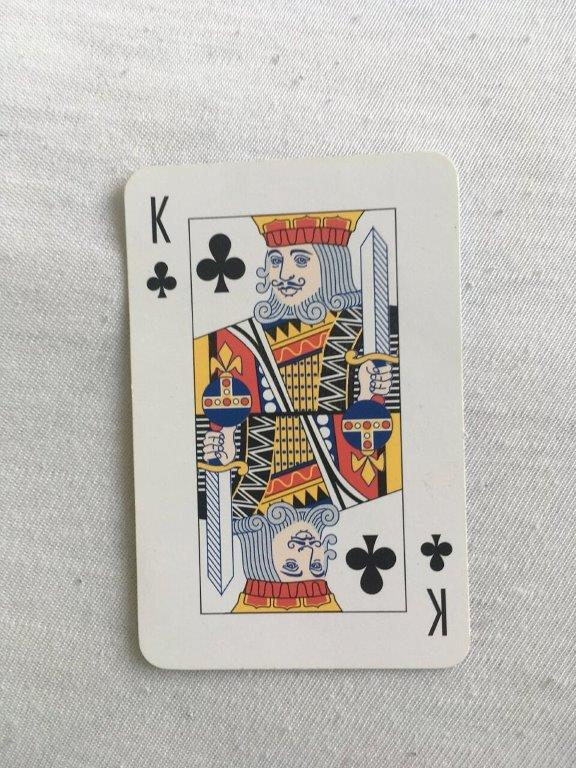KC: (119, 149, 473, 675)
